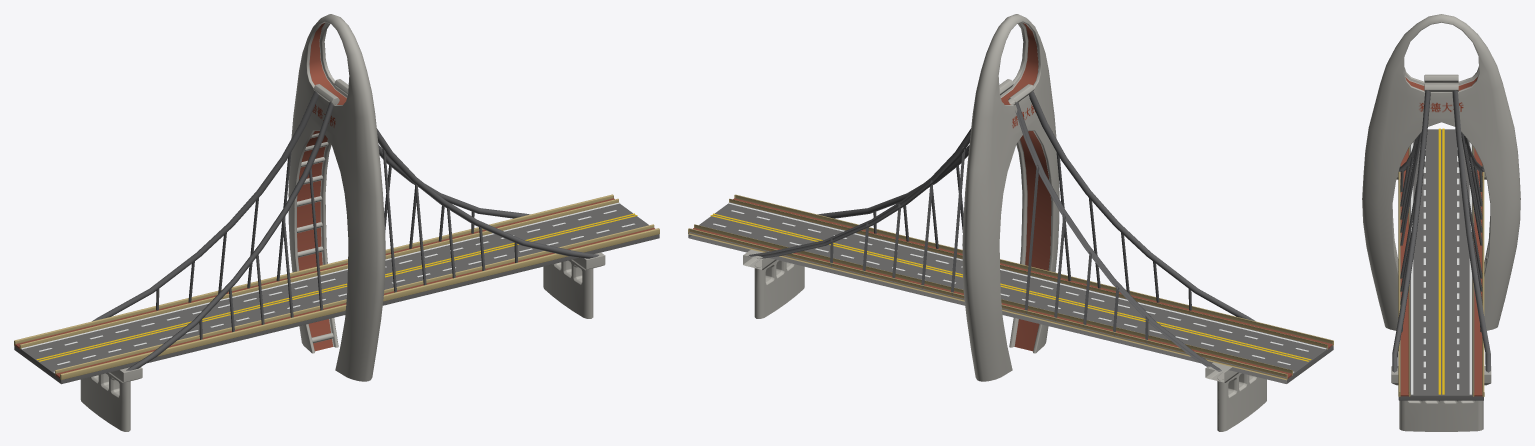
The model's file is LieDeAaQiao.fbx.
3 views of the same model, side by side, from view 1: azimuth 30°, elevation 25°; view 2: azimuth 150°, elevation 25°; view 3: azimuth 270°, elevation 25° (orthographic). The views are drawn at different scales.
Visible parts, largest first — view 1: Cylinder001; view 2: Cylinder001; view 3: Cylinder001.
Part boxes in pixels (x1,y1,x2,y2): Cylinder001: (14, 14, 659, 431); Cylinder001: (688, 14, 1333, 431); Cylinder001: (1362, 14, 1520, 431).
Bounding box in the file's own units: 322 × 176 × 81.02.
